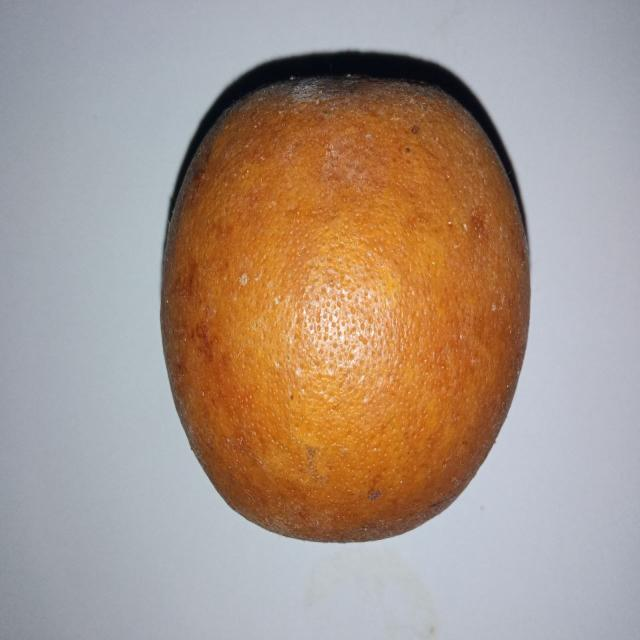rotten_orange: (159, 70, 529, 547)
